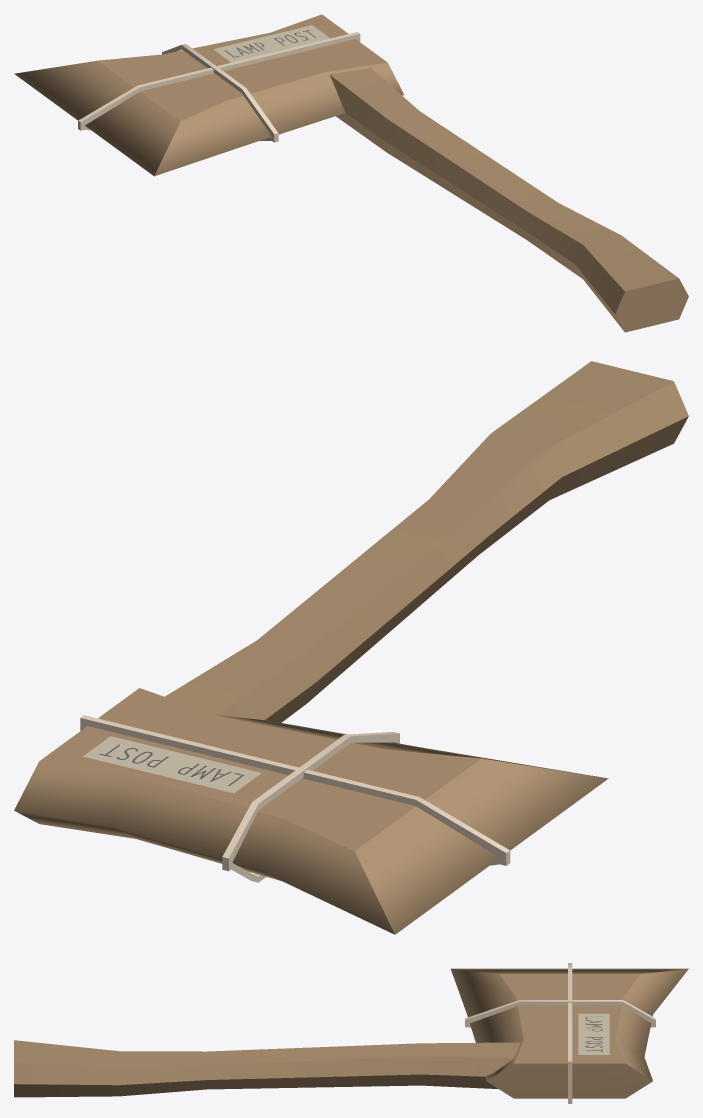
The model's file is package_axe.fbx.
The picture shows the model from 3 angles, top to bottom: view 1: azimuth 30°, elevation 25°; view 2: azimuth 150°, elevation 25°; view 3: azimuth 270°, elevation 25°; orthographic projection. The views are drawn at different scales.
Visible parts, largest first — view 1: pCube1, pCylinder1, pCube3, pPlane1, polySurface2; view 2: pCube1, pCylinder1, pCube3, pPlane1, polySurface2; view 3: pCylinder1, pCube1, pPlane1, polySurface2, pCube3.
Boxes of the visible parts, x1=… form: pCube1: x1=14, y1=14, x2=403, y2=176; pCylinder1: x1=329, y1=68, x2=688, y2=332; pCube3: x1=78, y1=32, x2=360, y2=130; pPlane1: x1=213, y1=25, x2=330, y2=62; polySurface2: x1=162, y1=44, x2=278, y2=142; pCube1: x1=14, y1=688, x2=608, y2=934; pCylinder1: x1=165, y1=361, x2=688, y2=722; pCube3: x1=80, y1=715, x2=510, y2=865; pPlane1: x1=83, y1=736, x2=261, y2=793; polySurface2: x1=222, y1=732, x2=399, y2=882; pCylinder1: x1=14, y1=1040, x2=520, y2=1097; pCube1: x1=451, y1=968, x2=688, y2=1098; pPlane1: x1=578, y1=1013, x2=609, y2=1054; polySurface2: x1=465, y1=1000, x2=655, y2=1027; pCube3: x1=568, y1=963, x2=572, y2=1103.
Size of the model in its own units: 24.19 by 4.2 by 58.33.
Materials: 2 (2 with a texture image).
